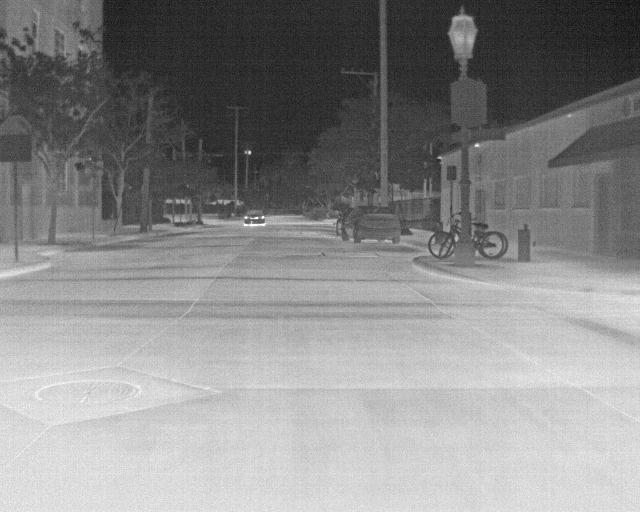bicycle: (426, 211, 461, 261), (473, 221, 508, 258)
car: (344, 205, 402, 245), (243, 209, 266, 223), (334, 211, 343, 237)
